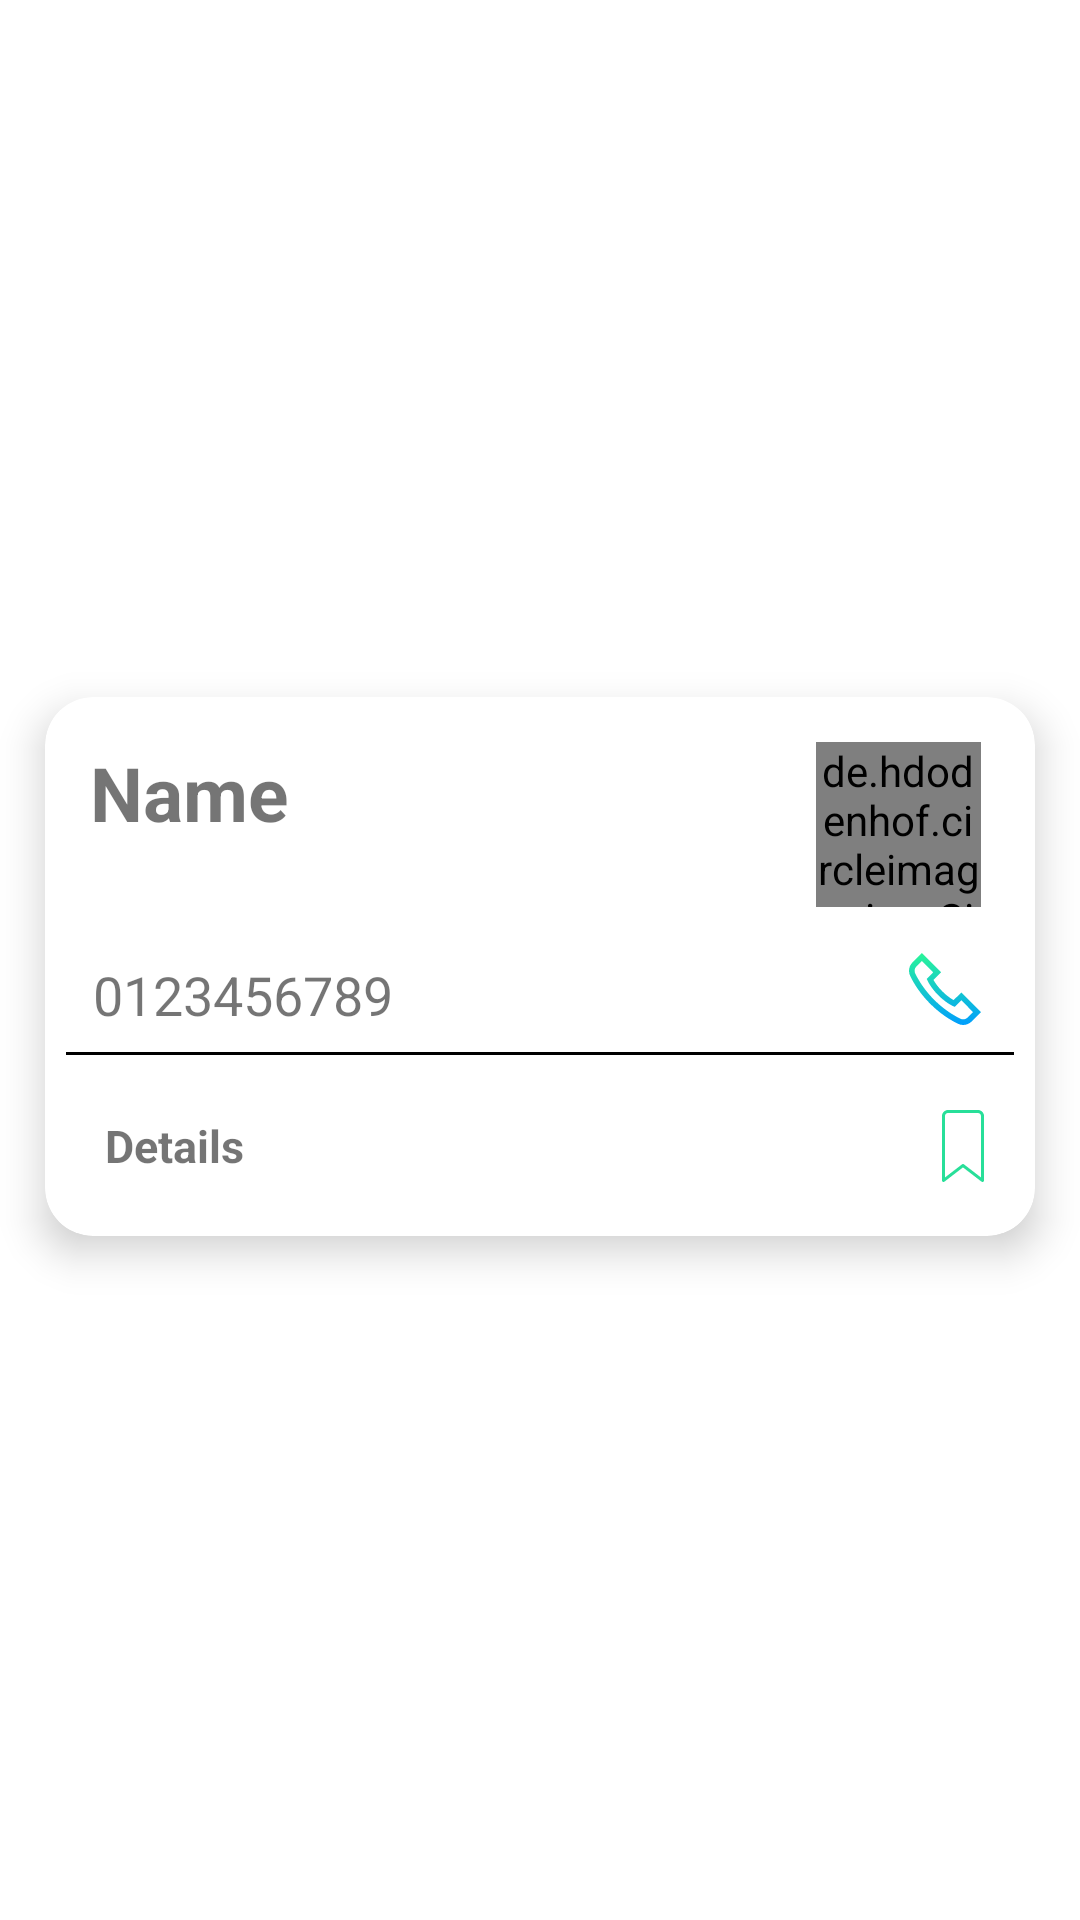

Screen size 1080 x 1920. Icon name, then its center in pixels as point (x, y):
bookmark: point (963, 1146)
telephone: point (945, 989)
